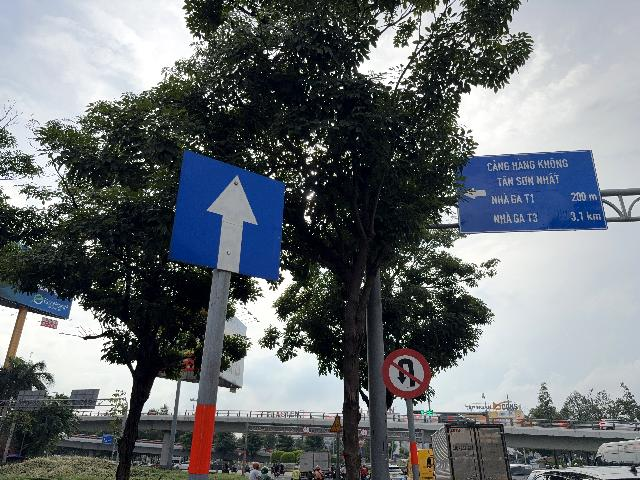cam-quay-dau-xe: (382, 347, 431, 399)
duong-mot-chieu: (167, 149, 285, 281)
